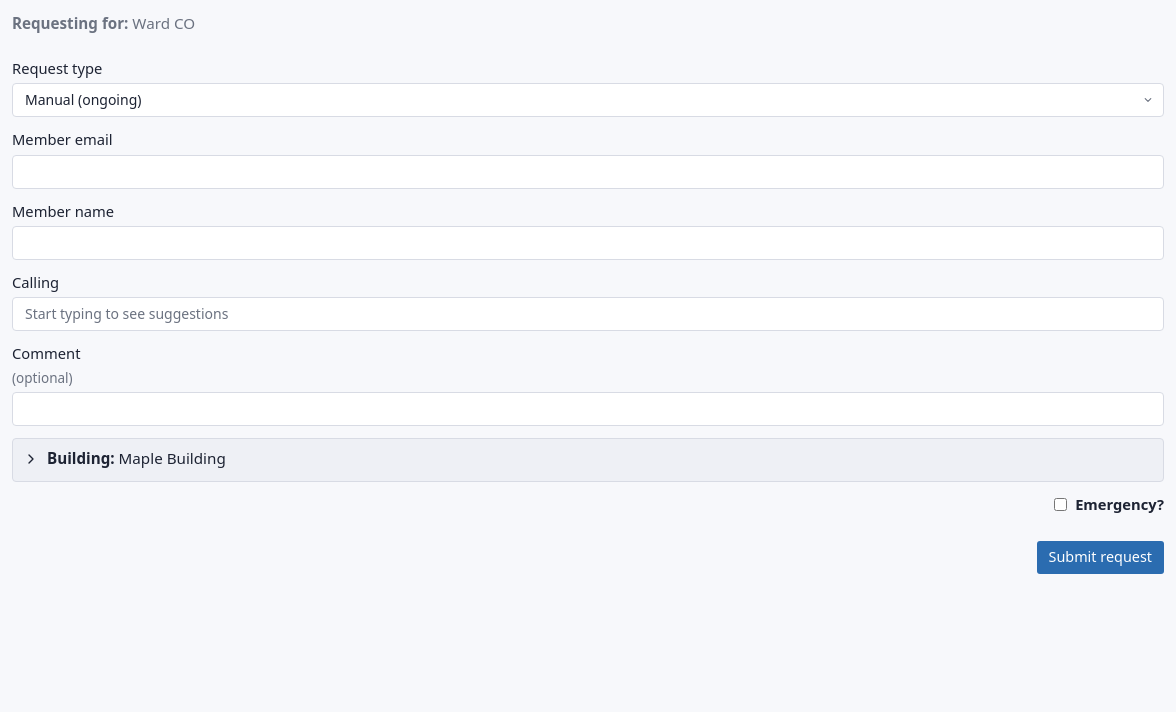
Scenario: <NewRequestForm /> — validation › shows date inputs when type is add_temp and requires both dates
Select "Temporary (dated)" in the dropdown with test id "new-request-type". click: (588, 100)
box: [12,83,1164,117]
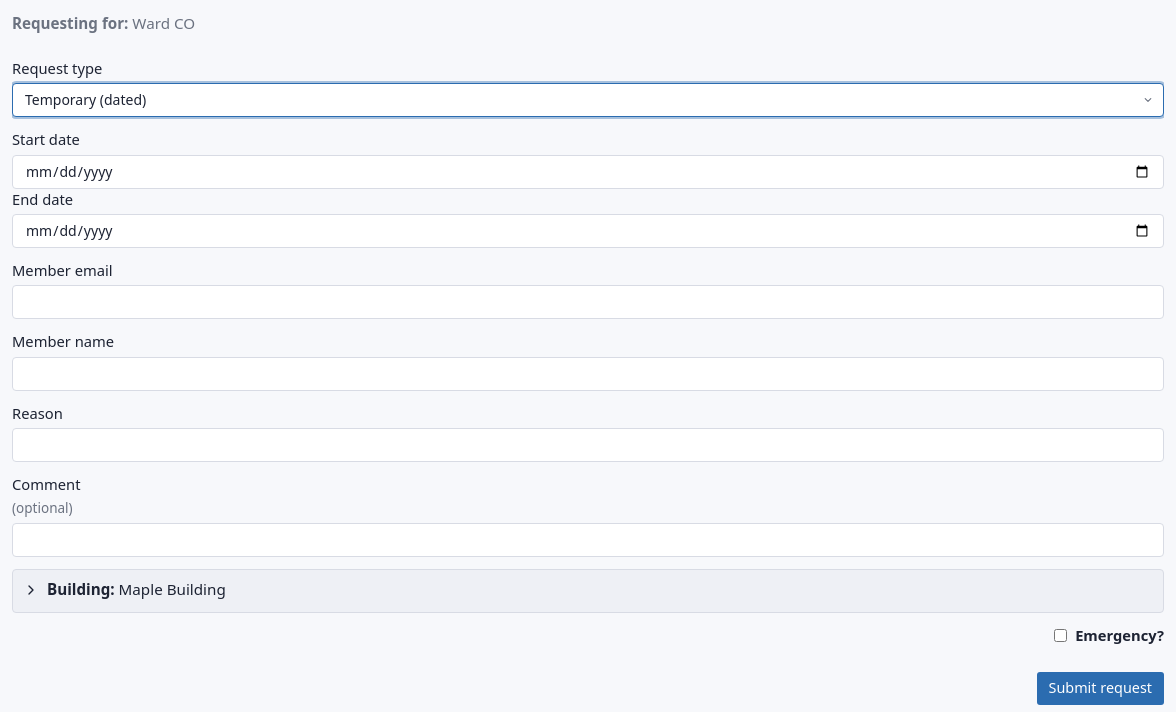
Expected: the date field with test id "new-request-start-date" is shown, [12,155,1164,189]
Expected: the date field with test id "new-request-end-date" is shown, [12,214,1164,248]
Type "bob@example.com" into the field with test id "new-request-email". click: (588, 302)
box: [12,285,1164,319]
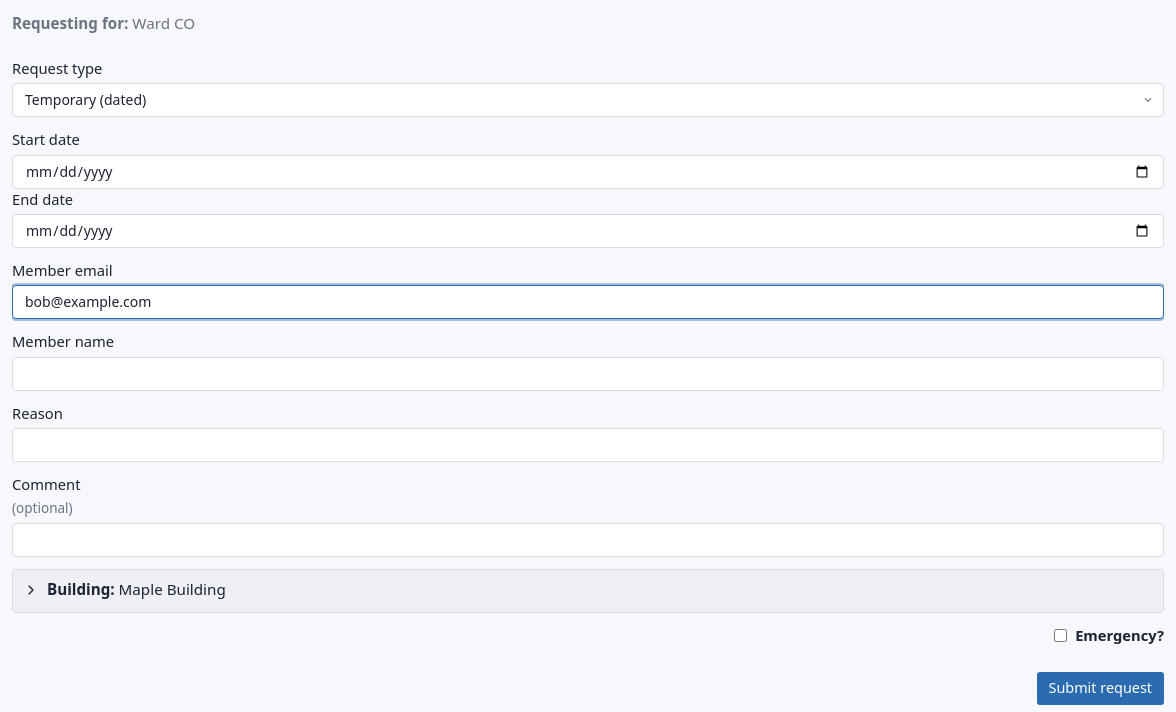
Type "Bob" into the field with test id "new-request-name". click: (588, 374)
box: [12,357,1164,391]
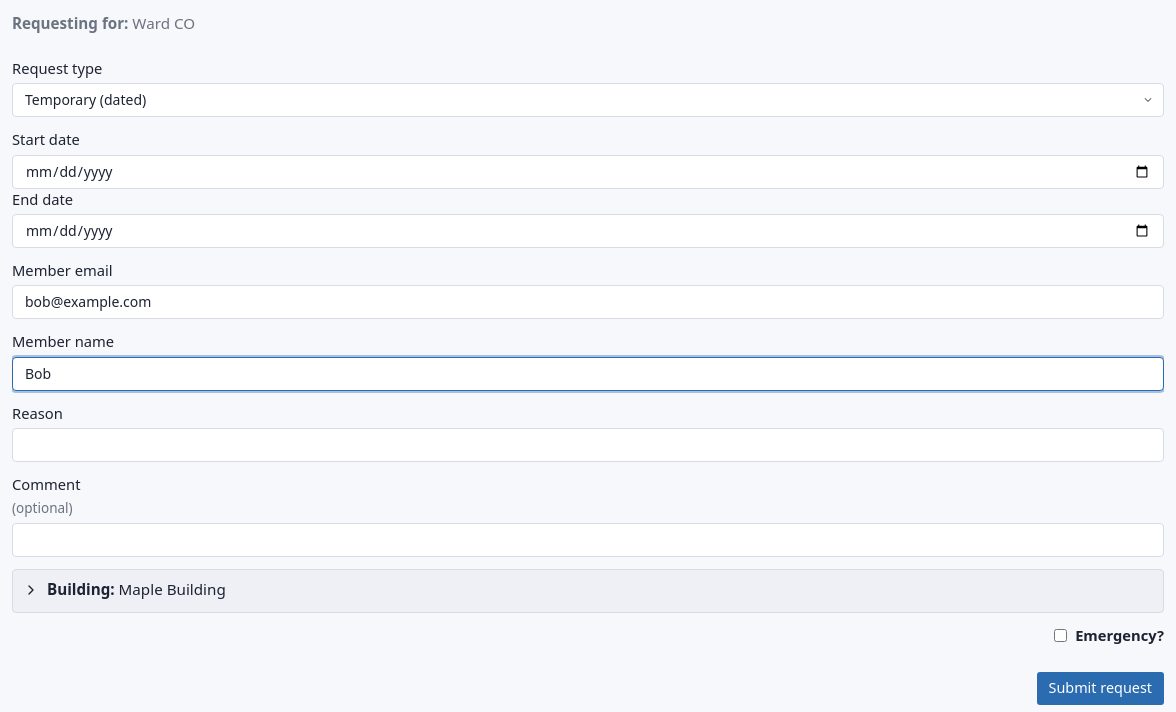
Type "visit" into the field with test id "new-request-reason". click: (588, 445)
box: [12,428,1164,462]
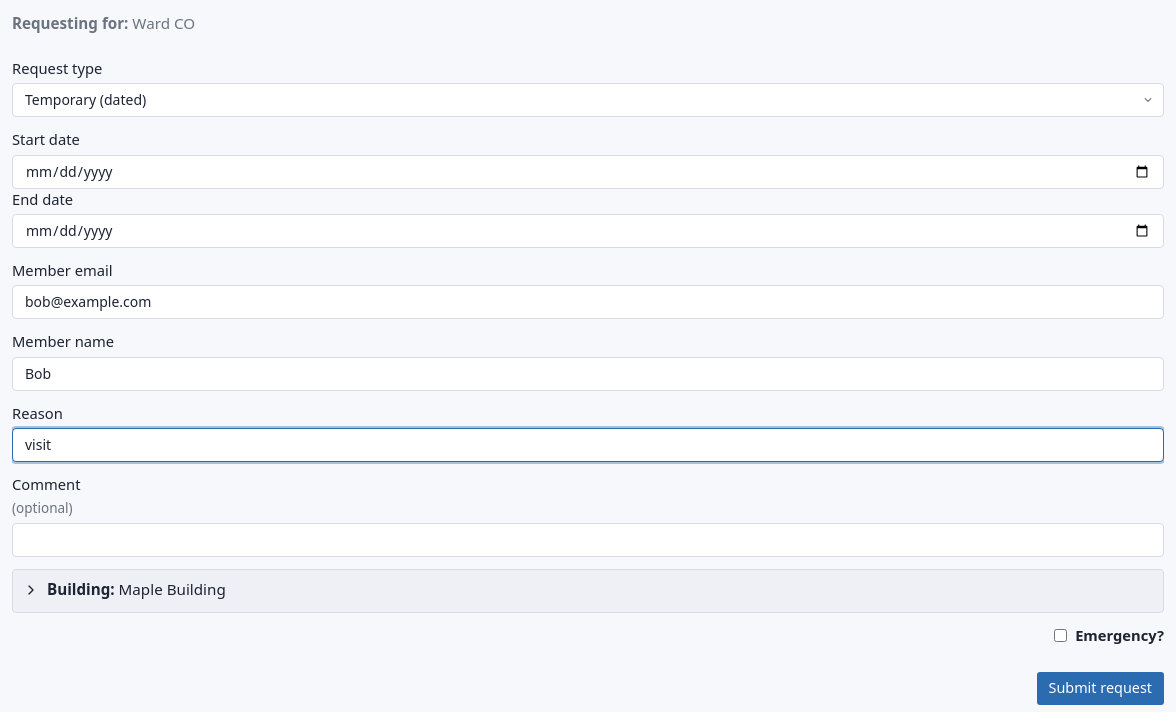
Click the button with test id "new-request-submit". click: (1100, 689)
box: [1036,672,1164,705]
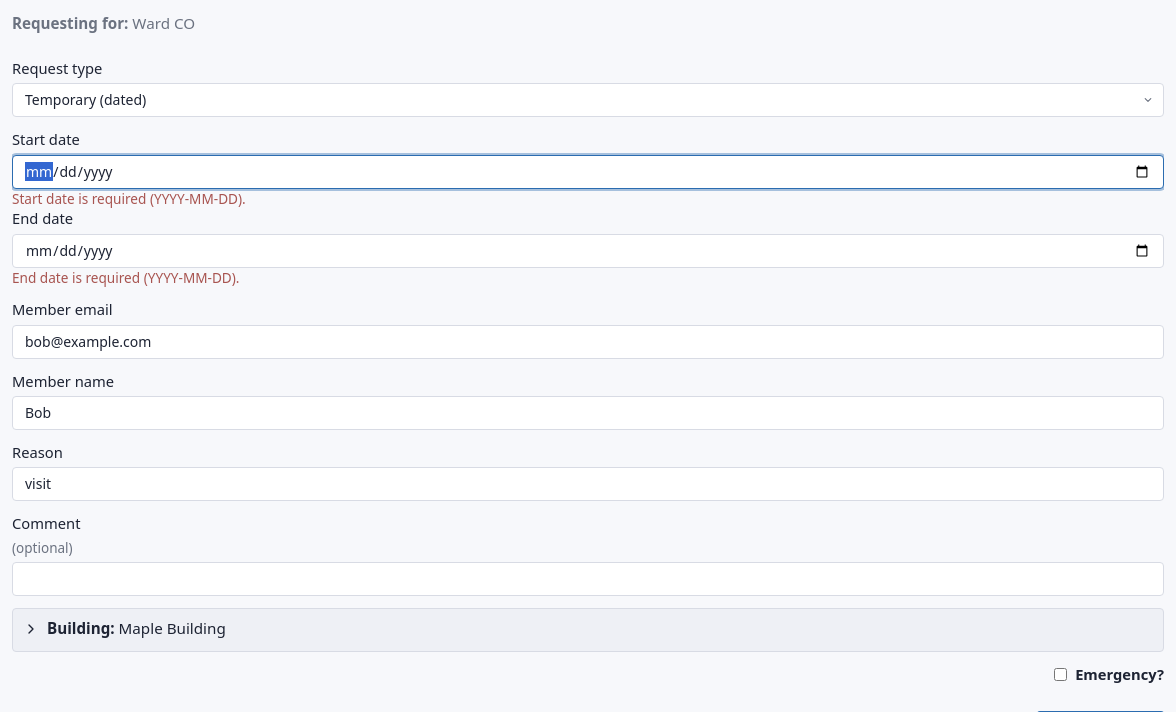
Expected: the text "Start date is required (YYYY-MM-DD)." is shown, [12,189,246,208]
